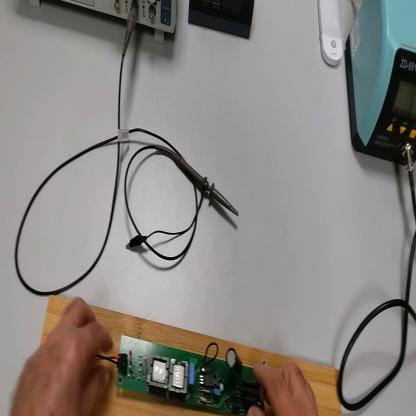hand: (12, 294, 116, 415), (250, 360, 319, 415)
high voltage board: (88, 335, 263, 416)
oscilloscope: (26, 2, 179, 45)
oscilloscope probe tip: (152, 144, 240, 217)
welder station: (348, 3, 416, 166)
working area: (42, 289, 342, 414)
